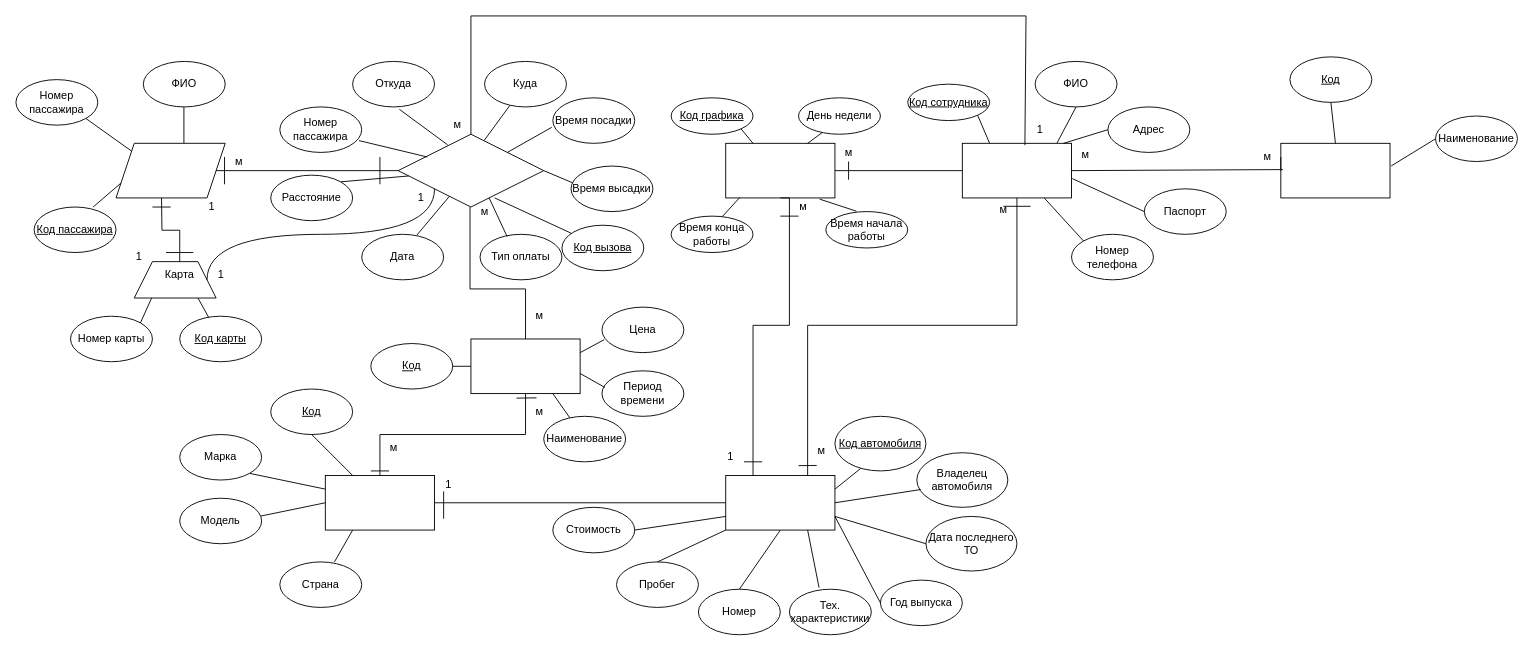
Some shapes in this 1533 by 651 pixel diagram are drawn without their labels. Here are the shapes that lost their labels. From the top down, the box of each, then its label:
(115, 142, 225, 198): Клиент
(397, 133, 544, 207): Вызов
(725, 142, 835, 198): График работы
(961, 142, 1072, 198): Сотрудник
(1280, 142, 1390, 198): Должность
(470, 338, 580, 394): Тариф
(324, 475, 435, 530): Модель автомобиля
(725, 475, 835, 530): Автомобили
